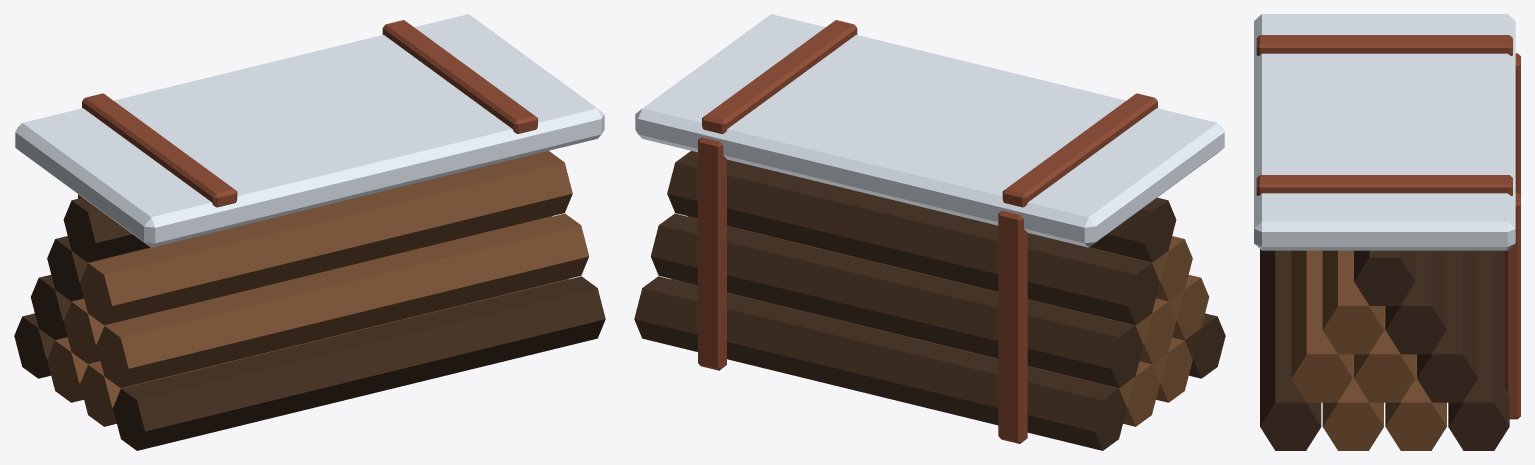
Rendered from Prop_LogPile.fbx.
3 views of the same model, side by side, from view 1: azimuth 30°, elevation 25°; view 2: azimuth 150°, elevation 25°; view 3: azimuth 270°, elevation 25° (orthographic). The views are drawn at different scales.
Visible parts, largest first — view 1: Prop_LogPile; view 2: Prop_LogPile; view 3: Prop_LogPile.
Boxes of the visible parts, box(x1,y1,x2,y2) form: Prop_LogPile: box(14, 14, 605, 450); Prop_LogPile: box(634, 14, 1225, 450); Prop_LogPile: box(1254, 14, 1520, 450).
Size of the model in its own units: 190 by 97.5 by 100.
